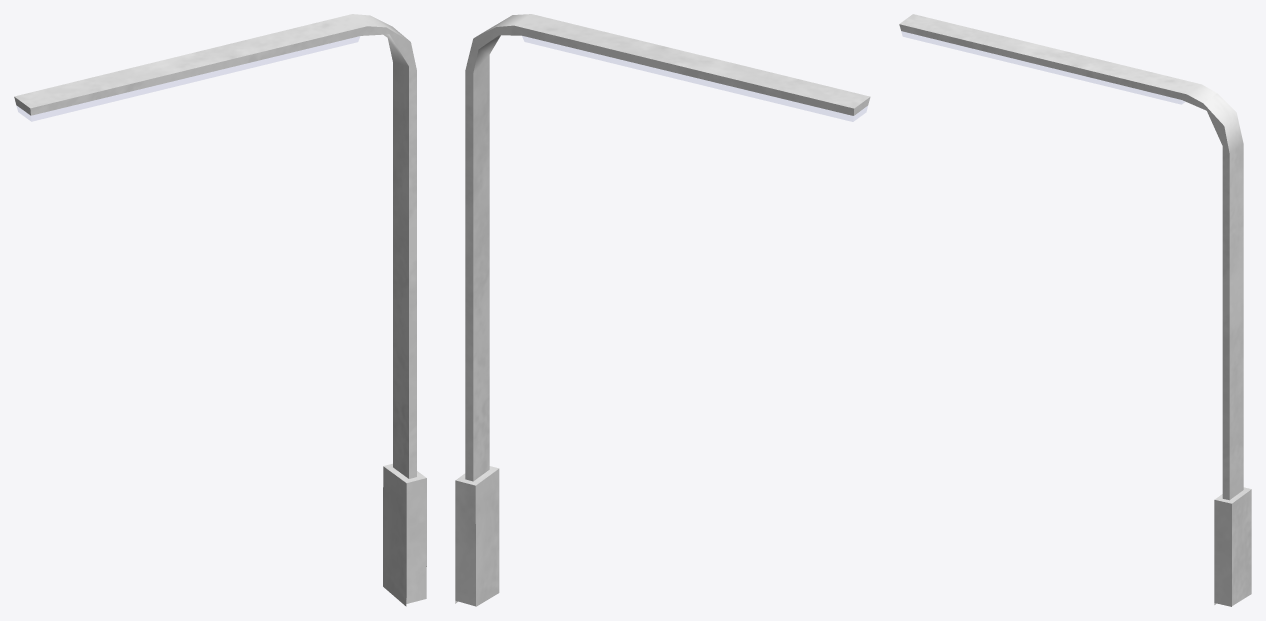
3 views of the same model, side by side, from view 1: azimuth 30°, elevation 25°; view 2: azimuth 150°, elevation 25°; view 3: azimuth 330°, elevation 25° (orthographic). The views are drawn at different scales.
Parts seen in each view (by area): view 1: SM_ROAD_LAMP; view 2: SM_ROAD_LAMP; view 3: SM_ROAD_LAMP.
Part boxes in pixels (x1=…): SM_ROAD_LAMP: x1=14, y1=14, x2=426, y2=606; SM_ROAD_LAMP: x1=455, y1=14, x2=870, y2=606; SM_ROAD_LAMP: x1=899, y1=14, x2=1251, y2=606.
Size of the model in its own units: 635 by 906 by 65.51.
2 materials, 1 textured.
